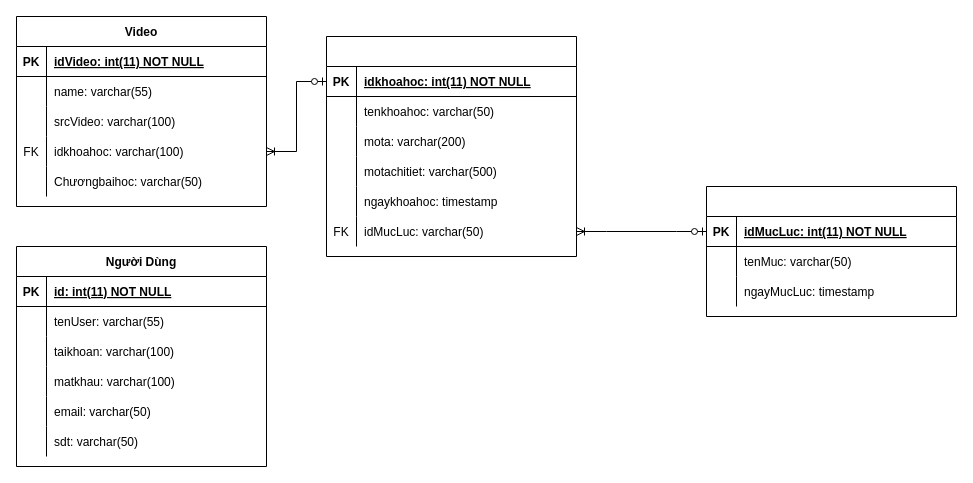
This 973x483 diagram has some shape labels left out. The shapes that lost their labels are listed below. From the top down, each one's box as (x1, y1, x2, y2) in pixels, then its label:
(326, 36, 576, 256): Khóa học
(706, 186, 956, 316): Mục lục
